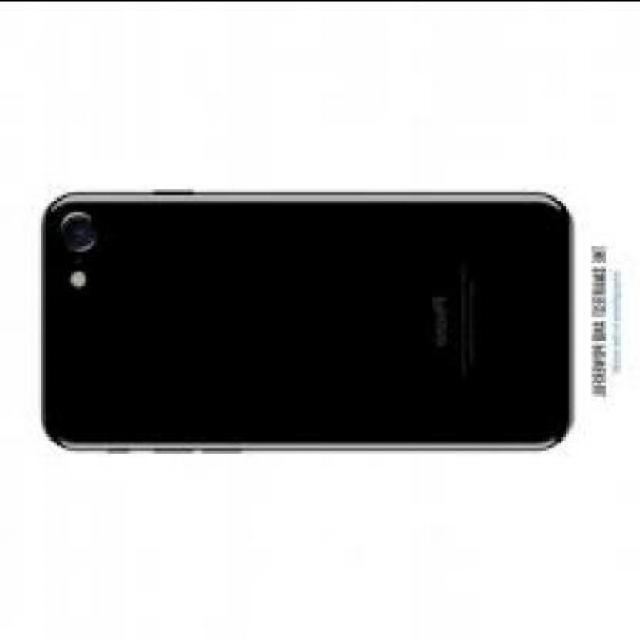phone: (40, 191, 572, 449)
